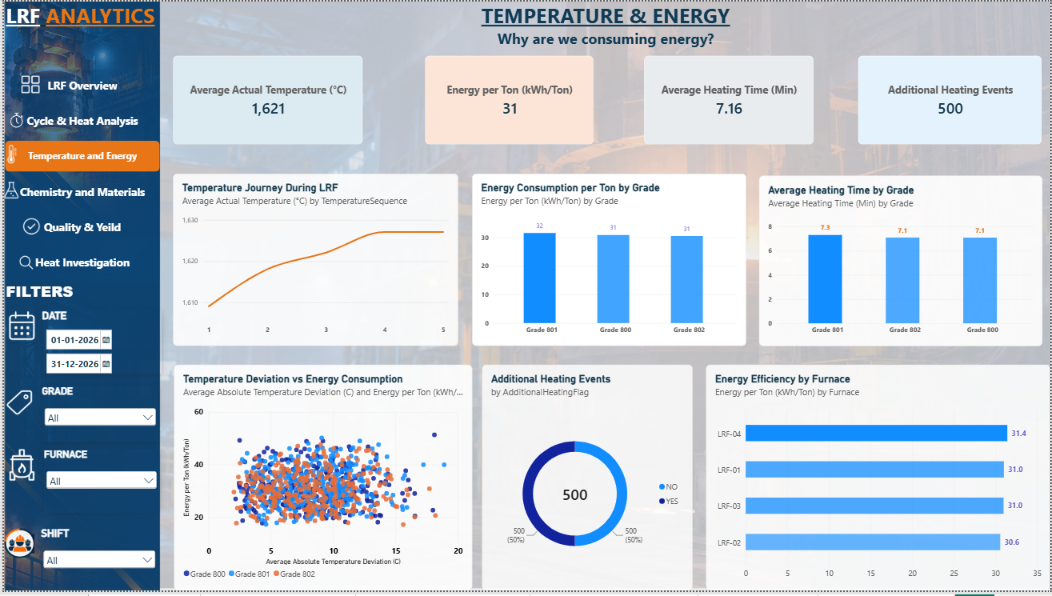

What the dashboard file says about the page in this screenshot:
{"tool":"powerbi","page":{"name":"Temperature and Energy","canvas":[1920,1080],"ordinal":2},"visuals":[{"type":"lineChart","title":"Temperature Journey During LRF","fields":{"Category":["Fact_Temperature.TemperatureSequence"],"Y":["Measures (2).Average Actual Temperature (c)"]},"box":[309.9,316.3,522.9,316.3],"z":0},{"type":"clusteredColumnChart","title":"Energy Consumption per Ton by Grade","fields":{"Category":["DIm_Grade.Grade"],"Y":["Measures (2).Energy per Ton (kWh/Ton)"]},"box":[858.6,316.3,503.6,316.3],"z":1000},{"type":"clusteredColumnChart","title":"Average Heating Time by Grade","fields":{"Category":["DIm_Grade.Grade"],"Y":["Measures (2).Average Heating Time (Min)"]},"box":[1384.8,319.6,519.7,313.1],"z":2000},{"type":"scatterChart","title":"Temperature Deviation vs Energy Consumption","fields":{"X":["Measures (2).Average Absolute Temperature Deviation (C)"],"Y":["Measures (2).Energy per Ton (kWh/Ton)"],"Category":["Fact_Heat.HeatID"],"Series":["DIm_Grade.Grade"]},"box":[311,666.1,546.9,414.7],"z":3000},{"type":"donutChart","fields":{"Category":["Fact_Energy.AdditionalHeatingFlag"],"Y":["Measures (2).Additional Heating Events"]},"box":[876,666.1,386.2,414.7],"z":4000},{"type":"clusteredBarChart","title":"Energy Efficiency by Furnace","fields":{"Category":["Dim_Furnance.Furnace"],"Y":["Measures (2).Energy per Ton (kWh/Ton)"]},"box":[1288.1,666.1,632.4,414.7],"z":5000},{"type":"cardVisual","fields":{"Data":["Measures (2).Average Actual Temperature (c)"]},"box":[310,99,348.5,163.2],"z":6000},{"type":"cardVisual","fields":{"Data":["Measures (2).Energy per Ton (kWh/Ton)"]},"box":[772.2,99,310,163.2],"z":7000},{"type":"cardVisual","fields":{"Data":["Measures (2).Average Heating Time (Min)"]},"box":[1173.9,99,311.8,163.2],"z":8000},{"type":"cardVisual","fields":{"Data":["Measures (2).Additional Heating Events"]},"box":[1566.4,99,337.5,163.2],"z":9000},{"type":"textbox","box":[285.5,0,1634.9,99.8],"z":10000},{"type":"textbox","box":[1.8,0,284.1,1080.4],"z":11000},{"type":"image","box":[0,0,286,1080.4],"z":12000},{"type":"textbox","box":[3.6,0,280.5,59.7],"z":13000},{"type":"pageNavigator","box":[1.8,124.7,284.3,387],"z":14000},{"type":"slicer","title":"DATE","fields":{"Values":["Dim_Date.Date"]},"box":[69.7,564.9,219,117.6],"z":15000},{"type":"slicer","title":" GRADE","fields":{"Values":["DIm_Grade.Grade"]},"box":[69.7,704.4,213.5,103.2],"z":16000},{"type":"slicer","title":"  FURNACE","fields":{"Values":["Dim_Furnance.Furnace"]},"box":[73.4,819.9,211.7,117.6],"z":17000},{"type":"textbox","box":[3.7,511.8,282.5,44],"z":18000},{"type":"image","box":[6,135,86.2,33],"z":19000},{"type":"image","box":[0,203,47.1,29],"z":20000},{"type":"image","box":[0,262,29,36],"z":21000},{"type":"image","box":[0,330.2,27.5,31.2],"z":22000},{"type":"image","box":[31,397,39,32],"z":23000},{"type":"image","box":[14,465,50.7,25.3],"z":24000},{"type":"image","box":[3.7,704.4,50,62],"z":25000},{"type":"image","box":[7.3,563.1,50,62],"z":26000},{"type":"image","box":[1.8,819.9,60.5,60.5],"z":27000},{"type":"image","box":[0,964.8,56.9,58.7],"z":28000},{"type":"slicer","title":"SHIFT","fields":{"Values":["Fact_Heat.Shift"]},"box":[67.9,964.4,214.6,115.6],"z":29000}]}

Visuals, with their boxes on the page's 1920x1080 design canvas (x1, y1, x2, y2). These are canvas units, not pixel positions in the 1052x596 screenshot, which may show the page scaled, cropped or inside an application window:
"Temperature Journey During LRF" lineChart: Rect(310, 316, 833, 633)
"Energy Consumption per Ton by Grade" clusteredColumnChart: Rect(859, 316, 1362, 633)
"Average Heating Time by Grade" clusteredColumnChart: Rect(1385, 320, 1904, 633)
"Temperature Deviation vs Energy Consumption" scatterChart: Rect(311, 666, 858, 1081)
donutChart - Fact_Energy.AdditionalHeatingFlag x Measures (2).Additional Heating Events: Rect(876, 666, 1262, 1081)
"Energy Efficiency by Furnace" clusteredBarChart: Rect(1288, 666, 1920, 1081)
cardVisual - Measures (2).Average Actual Temperature (c): Rect(310, 99, 658, 262)
cardVisual - Measures (2).Energy per Ton (kWh/Ton): Rect(772, 99, 1082, 262)
cardVisual - Measures (2).Average Heating Time (Min): Rect(1174, 99, 1486, 262)
cardVisual - Measures (2).Additional Heating Events: Rect(1566, 99, 1904, 262)
textbox: Rect(286, 0, 1920, 100)
textbox: Rect(2, 0, 286, 1080)
image: Rect(0, 0, 286, 1080)
textbox: Rect(4, 0, 284, 60)
pageNavigator: Rect(2, 125, 286, 512)
"DATE" slicer: Rect(70, 565, 289, 682)
" GRADE" slicer: Rect(70, 704, 283, 808)
"  FURNACE" slicer: Rect(73, 820, 285, 938)
textbox: Rect(4, 512, 286, 556)
image: Rect(6, 135, 92, 168)
image: Rect(0, 203, 47, 232)
image: Rect(0, 262, 29, 298)
image: Rect(0, 330, 28, 361)
image: Rect(31, 397, 70, 429)
image: Rect(14, 465, 65, 490)
image: Rect(4, 704, 54, 766)
image: Rect(7, 563, 57, 625)
image: Rect(2, 820, 62, 880)
image: Rect(0, 965, 57, 1024)
"SHIFT" slicer: Rect(68, 964, 282, 1080)
